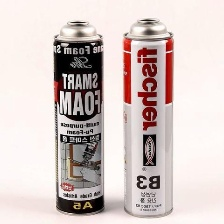aerosol_cans: (120, 16, 177, 221), (51, 17, 108, 218)
